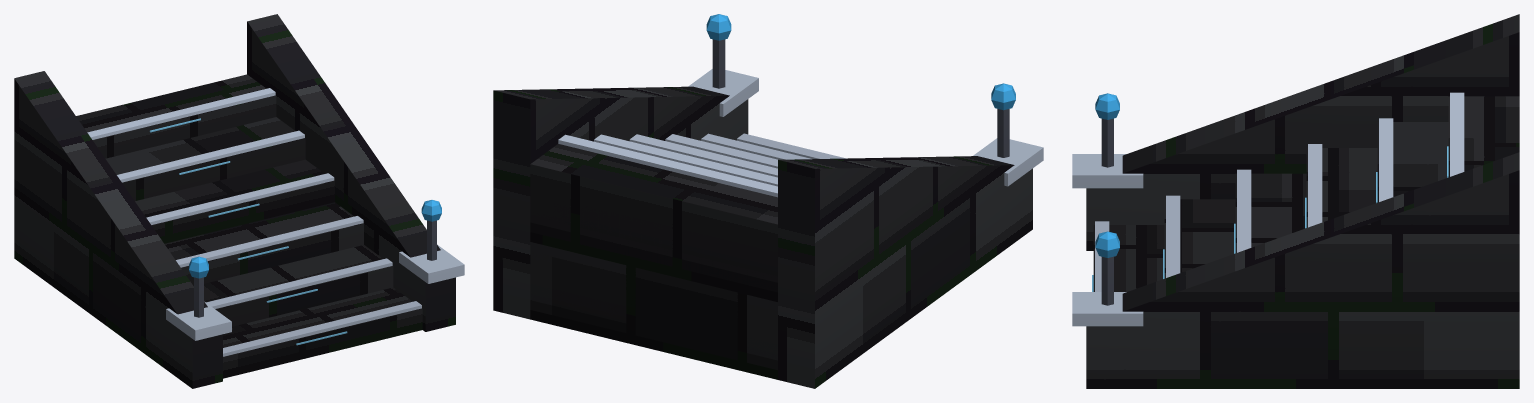
Rendered from stone_stair.glb.
3 views of the same model, side by side, from view 1: azimuth 30°, elevation 25°; view 2: azimuth 150°, elevation 25°; view 3: azimuth 270°, elevation 25° (orthographic). The views are drawn at different scales.
Parts seen in each view (by area): view 1: stone_stair; view 2: stone_stair; view 3: stone_stair.
Boxes of the visible parts, box(x1,y1,x2,y2) form: stone_stair: box(14, 14, 464, 388); stone_stair: box(493, 14, 1043, 388); stone_stair: box(1072, 14, 1519, 388).
Bounding box in the file's own units: 2.66 × 1.7 × 3.15.
3 materials, 1 textured.
